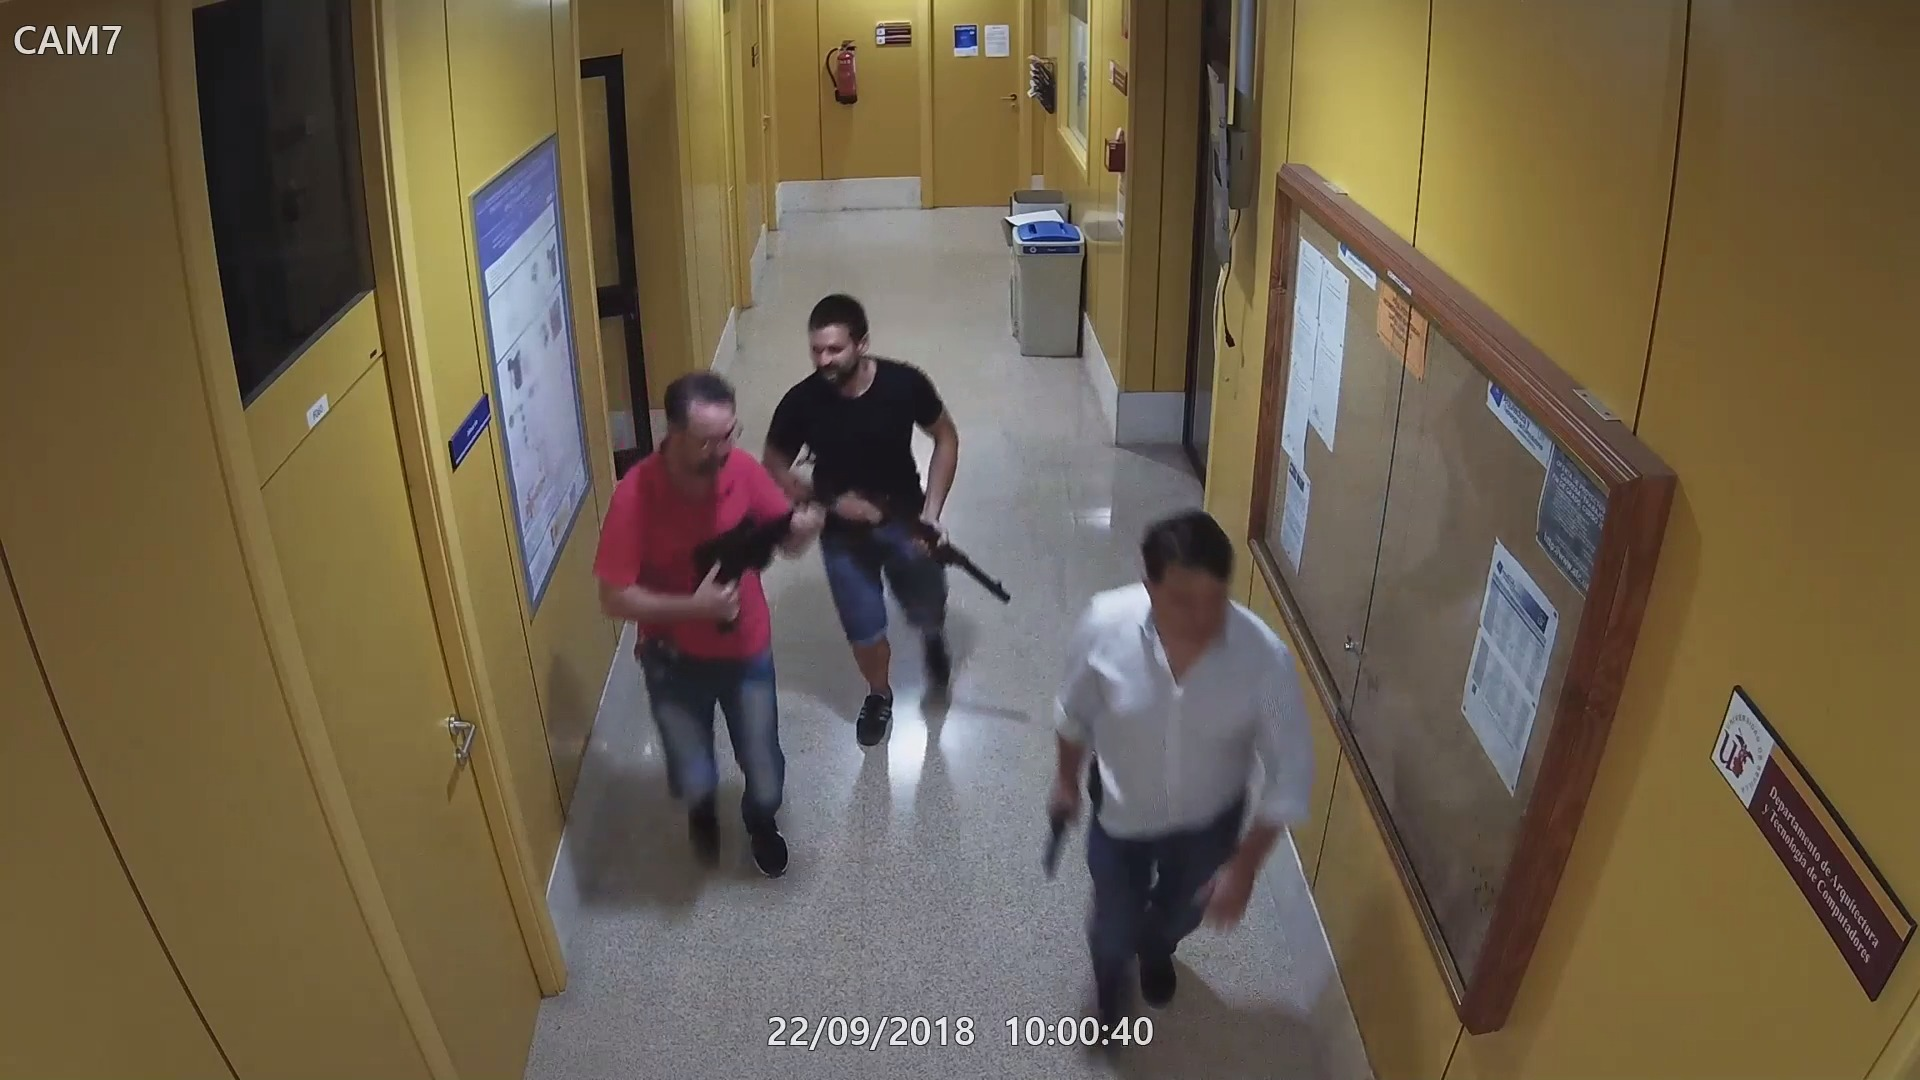pistol: (1035, 800, 1076, 880)
rifle: (702, 488, 851, 628), (841, 488, 1017, 603)
